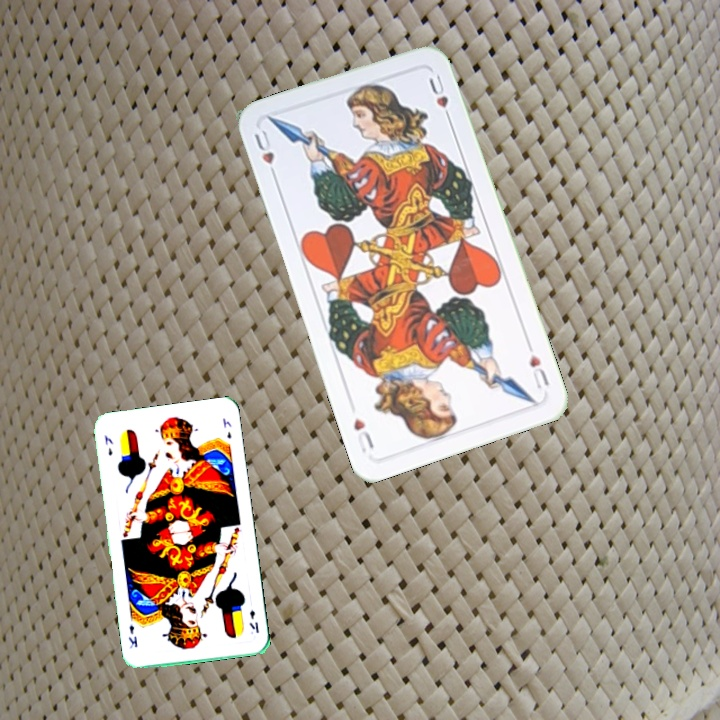EK: (245, 605, 261, 635), (101, 431, 116, 458)
HU: (250, 126, 280, 183), (523, 339, 552, 392)
